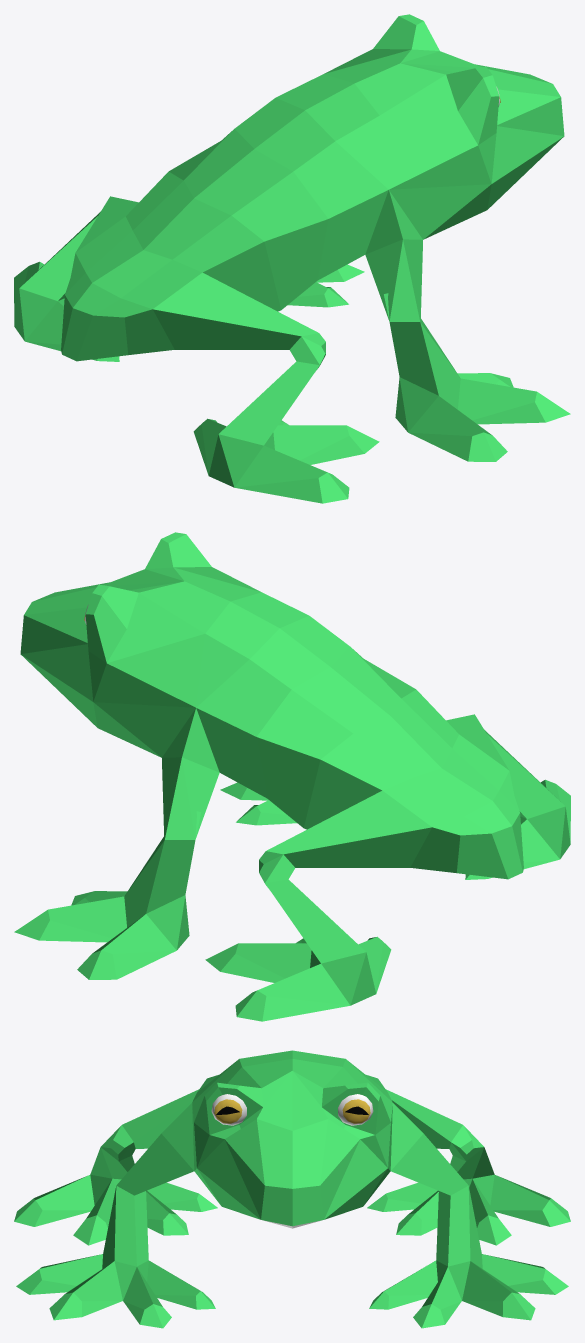
The model's file is Frog_fixed.fbx.
3 views of the same model, one above another, from view 1: azimuth 30°, elevation 25°; view 2: azimuth 150°, elevation 25°; view 3: azimuth 270°, elevation 25° (orthographic). The views are drawn at different scales.
Parts seen in each view (by area): view 1: Frog_Body.002, Frog_Body, Frog_Body.001, Frog_Right_back_3, Frog_Right_front_3, Frog_Right_back_1, Frog_Right_front_1, Frog_Right_back_2, Frog_Right_front_2, Frog_Left_back_3, Frog_Left_back_2, Frog_Left_front_3 (+1 smaller); view 2: Frog_Body.002, Frog_Body, Frog_Body.001, Frog_Left_back_3, Frog_Left_front_3, Frog_Left_back_1, Frog_Left_front_1, Frog_Left_back_2, Frog_Left_front_2, Frog_Right_back_3, Frog_Right_back_2, Frog_Right_front_3 (+1 smaller); view 3: Frog_Body, Frog_Left_front_3, Frog_Right_front_3, Frog_Left_back_3, Frog_Right_back_3, Frog_Left_front_1, Frog_Right_front_1, Frog_Left_front_2, Frog_Right_front_2, Frog_Body.002, EYE, Frog_Left_back_1 (+3 smaller).
Boxes of the visible parts, <box> form: Frog_Body.002: <box>169,74,388,309</box>; Frog_Body: <box>323,14,564,239</box>; Frog_Body.001: <box>61,171,280,361</box>; Frog_Right_back_3: <box>193,418,379,503</box>; Frog_Right_front_3: <box>395,373,570,461</box>; Frog_Right_back_1: <box>153,272,318,349</box>; Frog_Right_front_1: <box>365,190,422,321</box>; Frog_Right_back_2: <box>219,333,325,445</box>; Frog_Right_front_2: <box>384,293,460,395</box>; Frog_Left_back_3: <box>14,261,119,361</box>; Frog_Left_back_2: <box>19,211,100,300</box>; Frog_Left_front_3: <box>288,264,364,307</box>; Frog_Body.002: <box>196,592,415,827</box>; Frog_Body: <box>20,532,261,757</box>; Frog_Body.001: <box>304,689,523,879</box>; Frog_Left_back_3: <box>205,936,391,1021</box>; Frog_Left_front_3: <box>14,891,189,979</box>; Frog_Left_back_1: <box>266,790,431,867</box>; Frog_Left_front_1: <box>162,708,219,839</box>; Frog_Left_back_2: <box>259,851,365,963</box>; Frog_Left_front_2: <box>124,811,200,913</box>; Frog_Right_back_3: <box>465,779,570,879</box>; Frog_Right_back_2: <box>484,729,565,818</box>; Frog_Right_front_3: <box>220,782,296,825</box>; Frog_Body: <box>192,1059,392,1228</box>; Frog_Left_front_3: <box>369,1254,568,1328</box>; Frog_Right_front_3: <box>16,1254,215,1328</box>; Frog_Left_back_3: <box>367,1174,570,1245</box>; Frog_Right_back_3: <box>14,1174,217,1245</box>; Frog_Left_front_1: <box>390,1103,468,1195</box>; Frog_Right_front_1: <box>116,1103,194,1195</box>; Frog_Left_front_2: <box>436,1186,481,1266</box>; Frog_Right_front_2: <box>103,1186,148,1266</box>; Frog_Body.002: <box>192,1050,392,1101</box>; EYE: <box>211,1094,373,1125</box>; Frog_Left_back_1: <box>386,1089,462,1148</box>.
Size of the model in its own units: 411 by 224 by 448.
